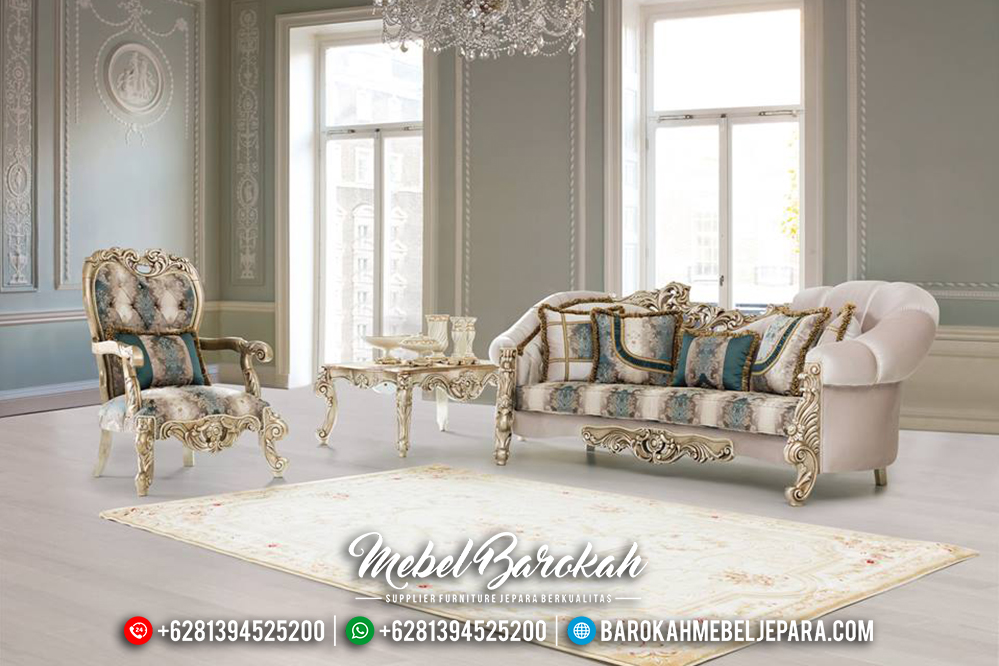Carving Chair: (496, 270, 922, 499), (78, 254, 293, 468)
